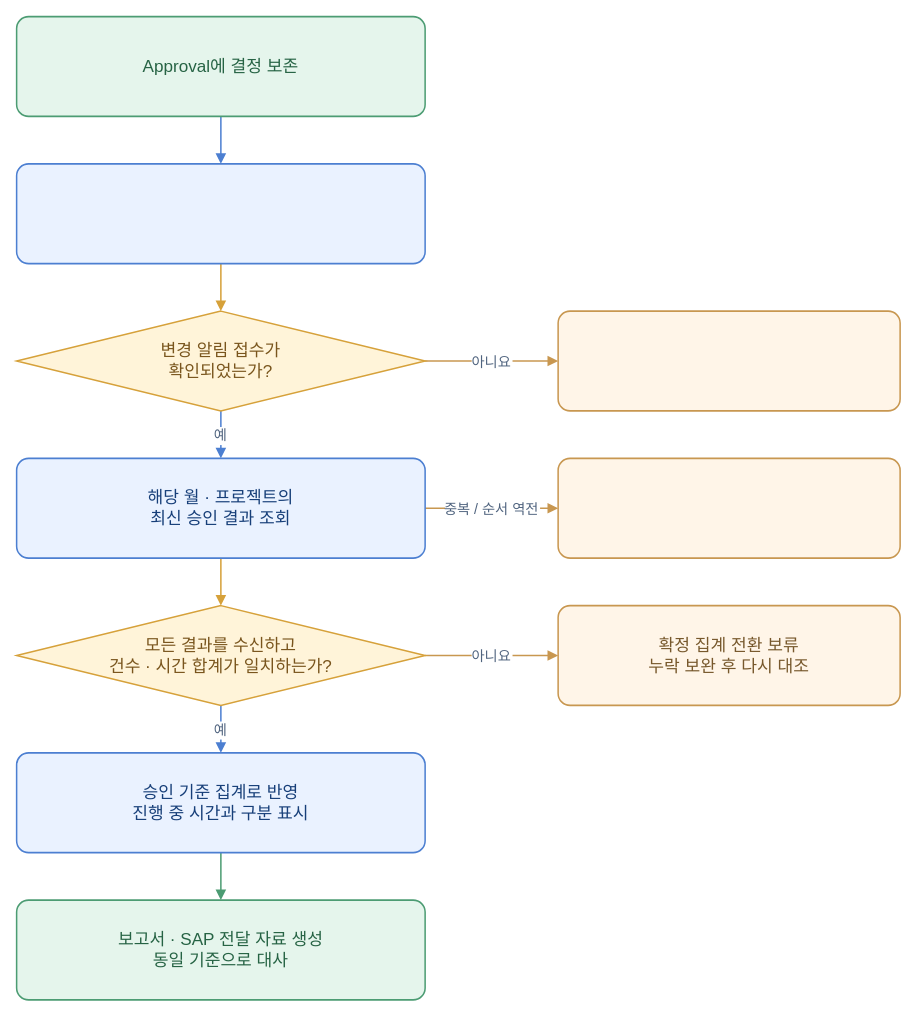
Image size: 918x1017. Some labels were removed from this diagram. Each missing label, with the centre of its shape:
Workforce에 변경 알림 전달: [220,213]
전달 대기 표시 · 재처리 기존 승인 결정은 보존: [728,360]
중복 알림은 중복 반영 방지 오래된 결과로 되돌리지 않음: [728,507]
